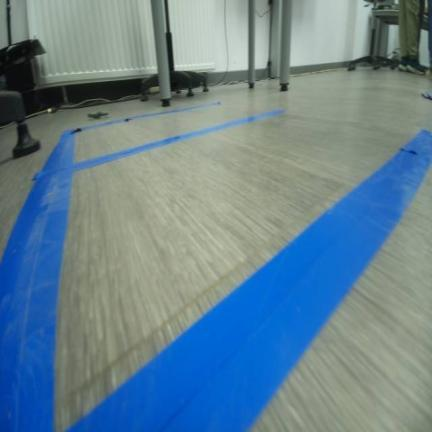place: (2, 107, 431, 430), (29, 99, 288, 185)
